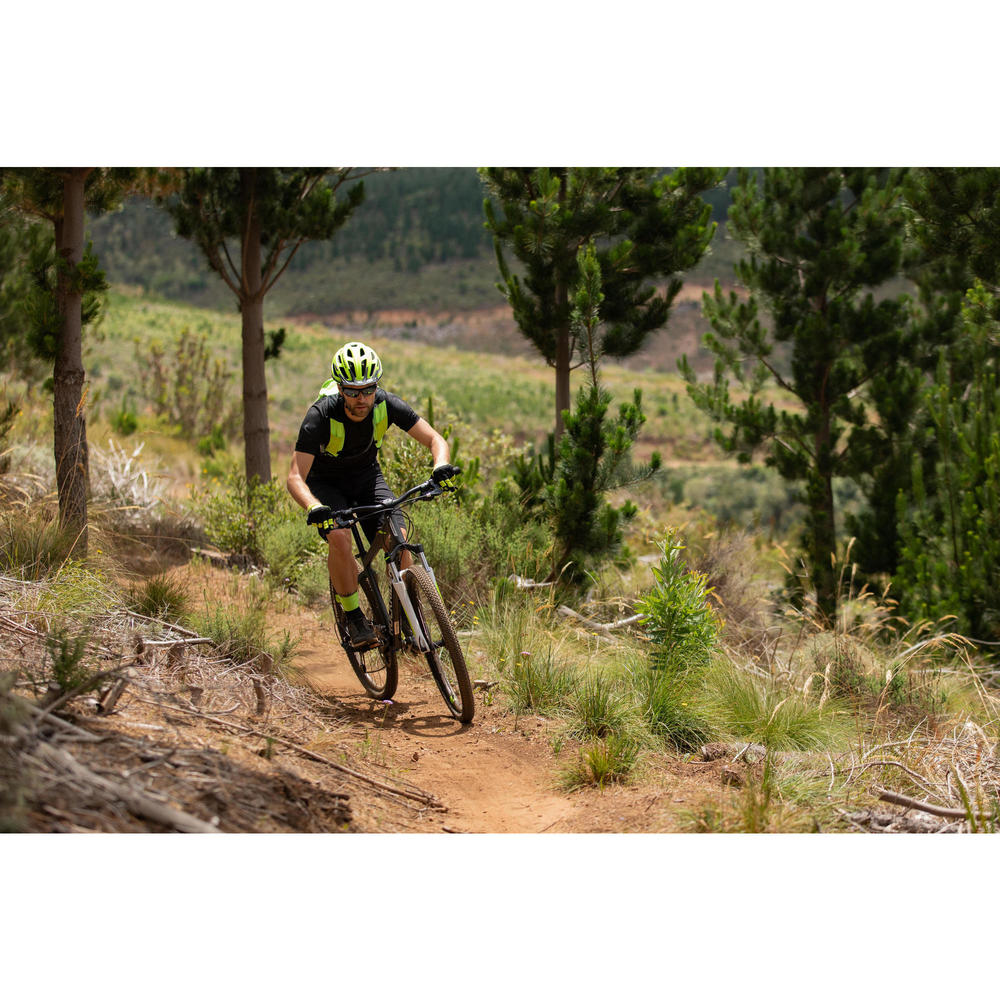MountainBike: (257, 454, 487, 737)
